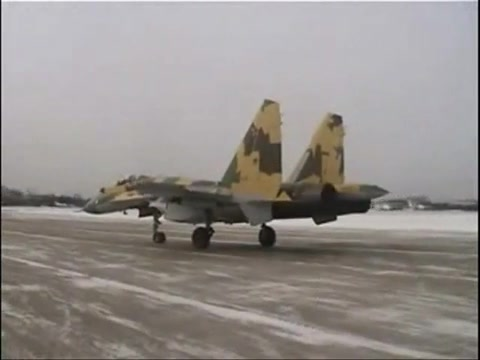aeroplane: (82, 99, 393, 252)
